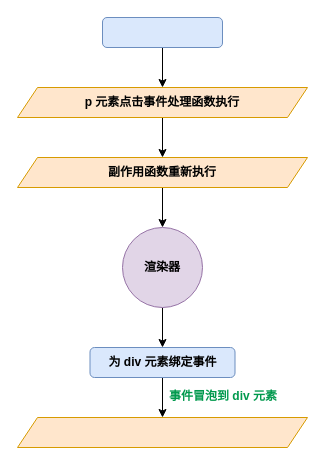
The diagram is 325 pixels wide and 465 high, and some of its shapes have lost their labels. Here are the shapes that lost their labels. From the top down, the centre of each, then its label:
the point at 162,32: 点击 p 元素
the point at 162,432: div 元素事件处理函数执行
